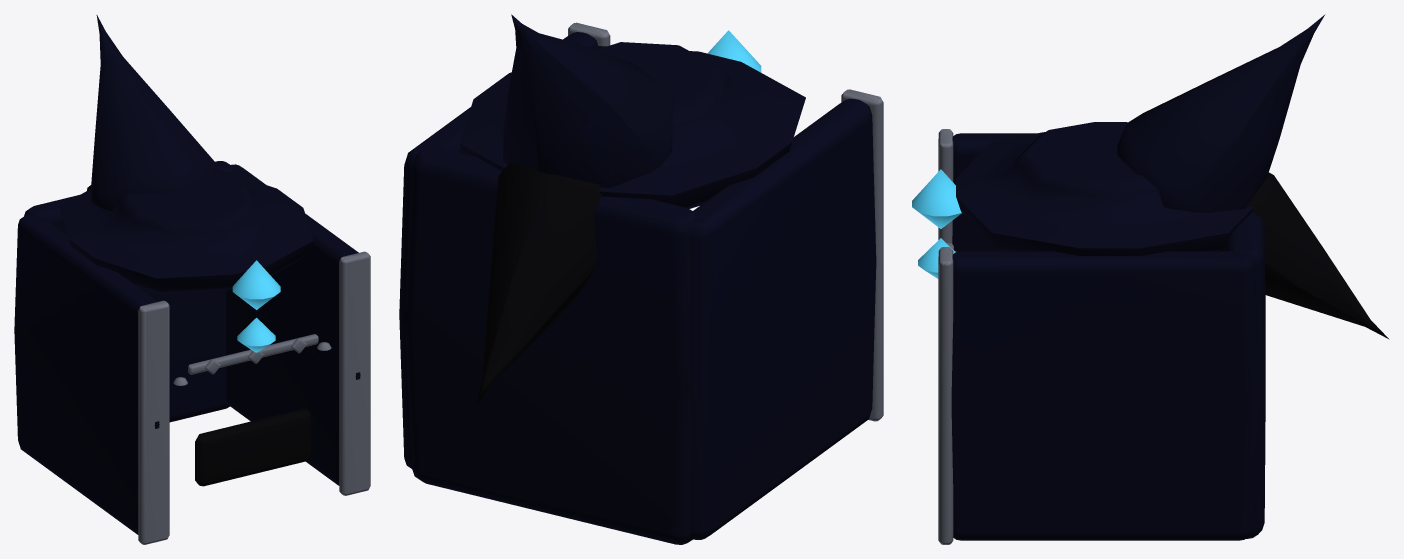
The model's file is Ecos_Elmo.fbx.
3 renders of one model, left to right at view 1: azimuth 30°, elevation 25°; view 2: azimuth 150°, elevation 25°; view 3: azimuth 270°, elevation 25°, orthographic. The views are drawn at different scales.
Parts seen in each view (by area): view 1: Piece; view 2: Piece; view 3: Piece.
Boxes of the visible parts, x1,y1,x2,y2 form: Piece: (14,15,370,544); Piece: (399,14,883,544); Piece: (912,14,1389,544).
Bounding box in the file's own units: 0.3488 × 0.5651 × 0.5227.
